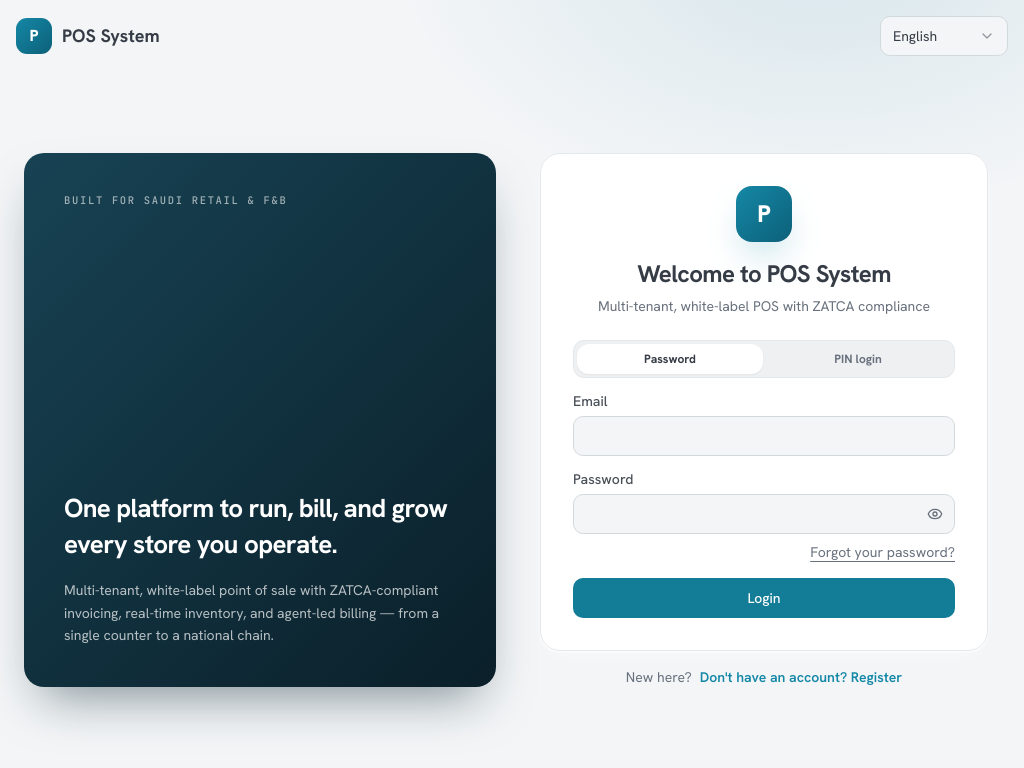
it: Index login — MFA challenge (#202) › shows the second-factor step and completes it when login returns a challenge
The width and height of the screenshot is (1024, 768).
Later steps or results of the test are not shown.
Type "a@b.com" into the field labelled "Email" at (764, 436), box [573, 416, 955, 456]
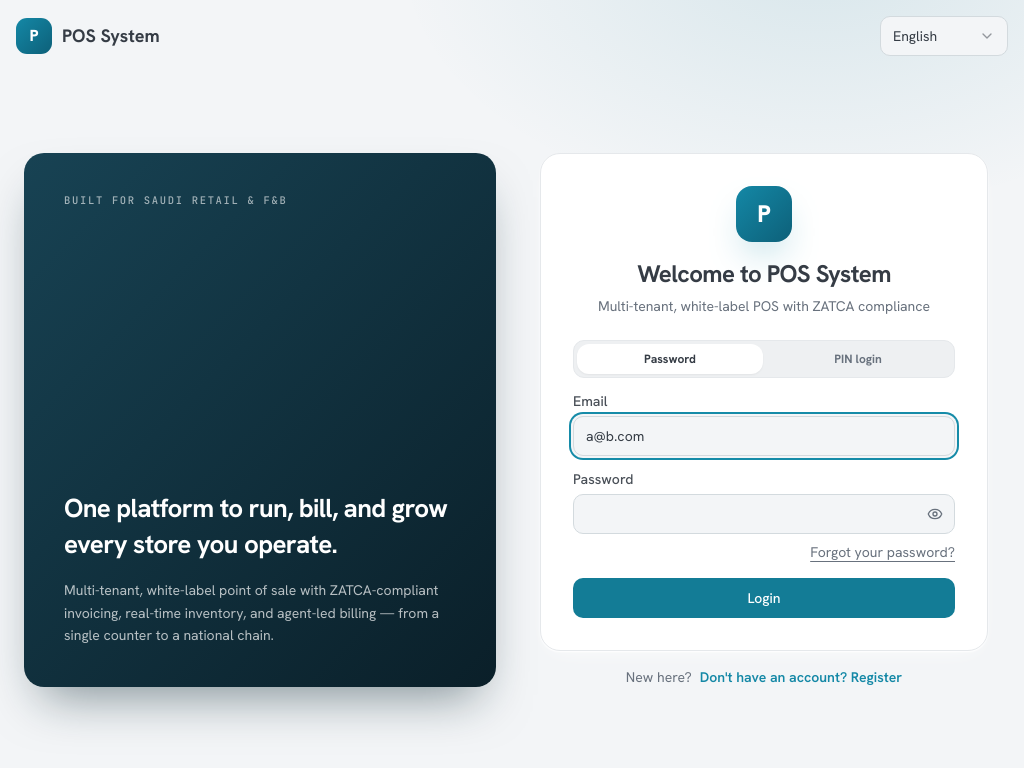
Type "Secret123!" into the password field labelled "Password" at (764, 514), box [573, 494, 955, 534]
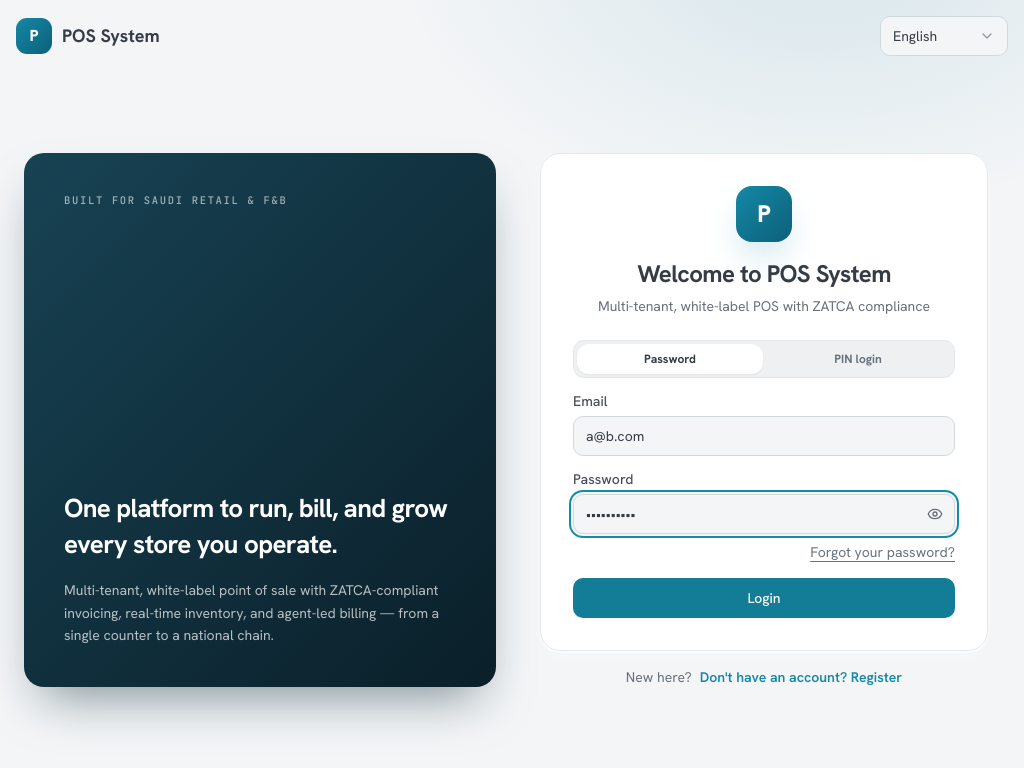
Click the button "Login" at (764, 598), box [573, 578, 955, 618]
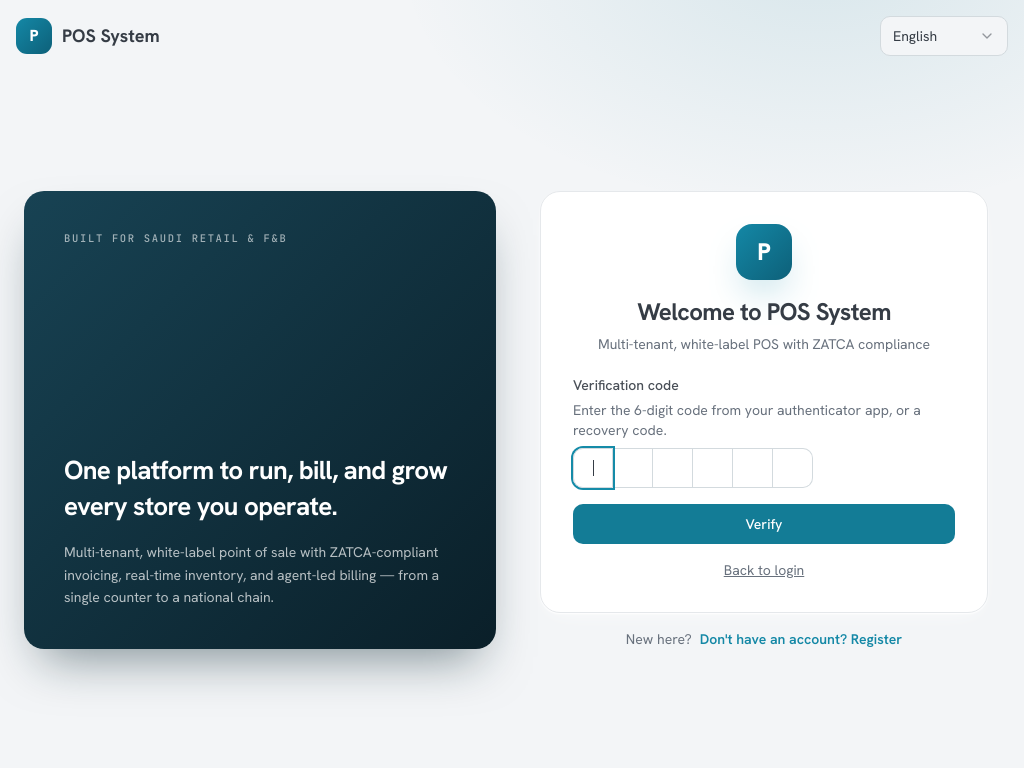
Expected: the tab labelled "Password" is gone
